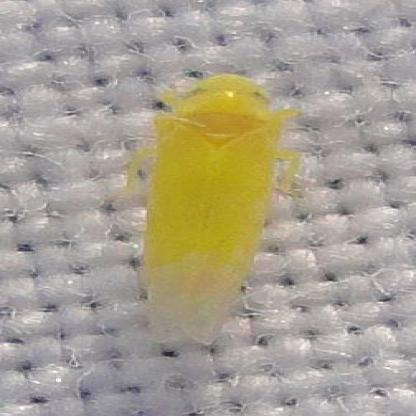green-leafhopper: (124, 68, 309, 342)
